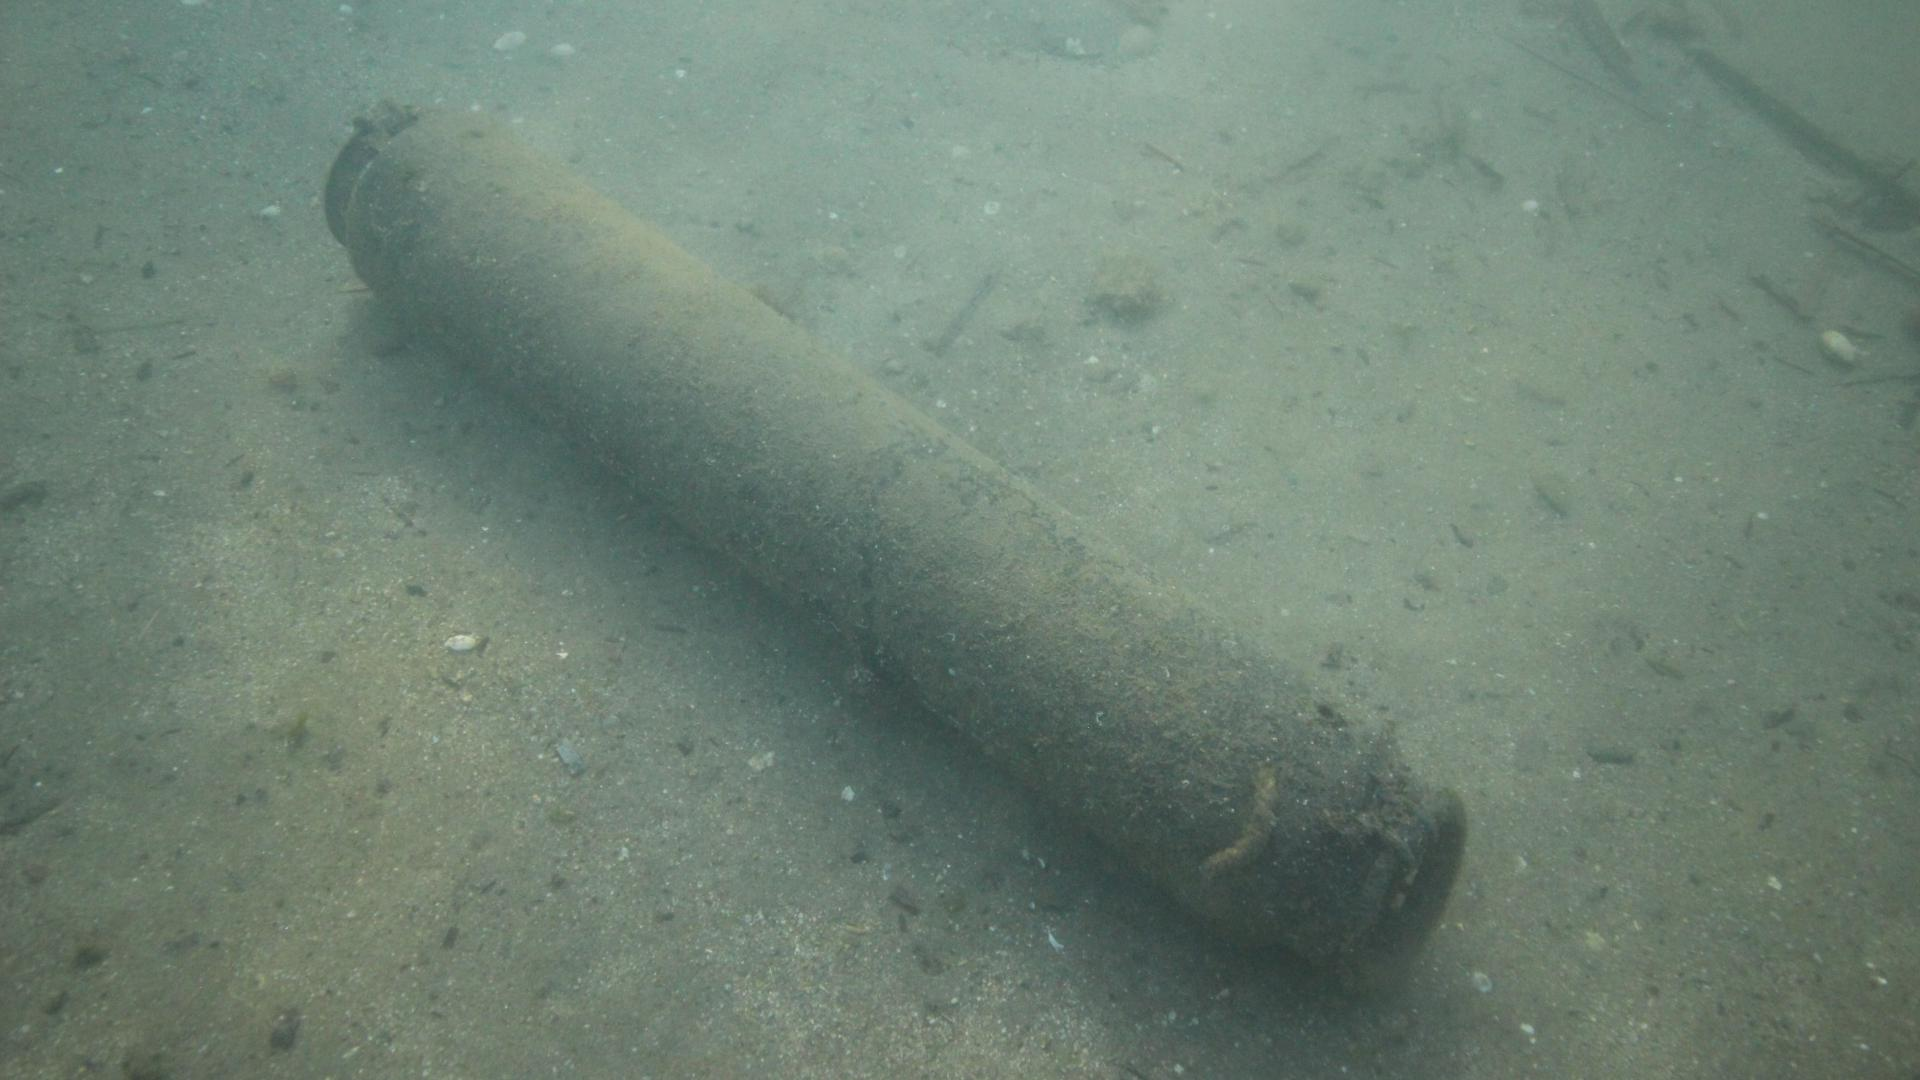eel fish trap: (323, 98, 1469, 985)
